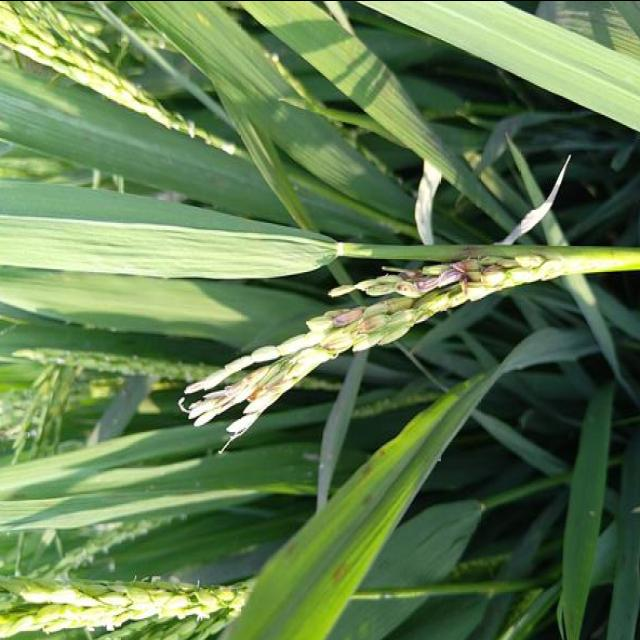Panicle Blight: (183, 360, 293, 432), (396, 257, 506, 294), (333, 307, 366, 324), (357, 316, 375, 333)
